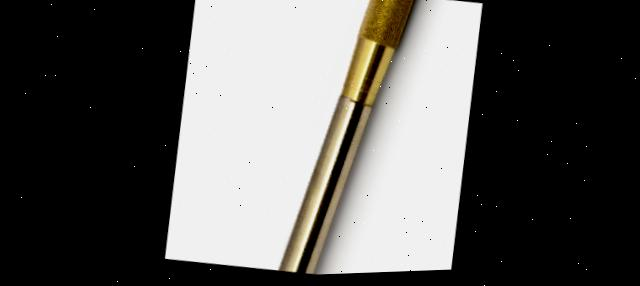hammer: (158, 0, 464, 281)
